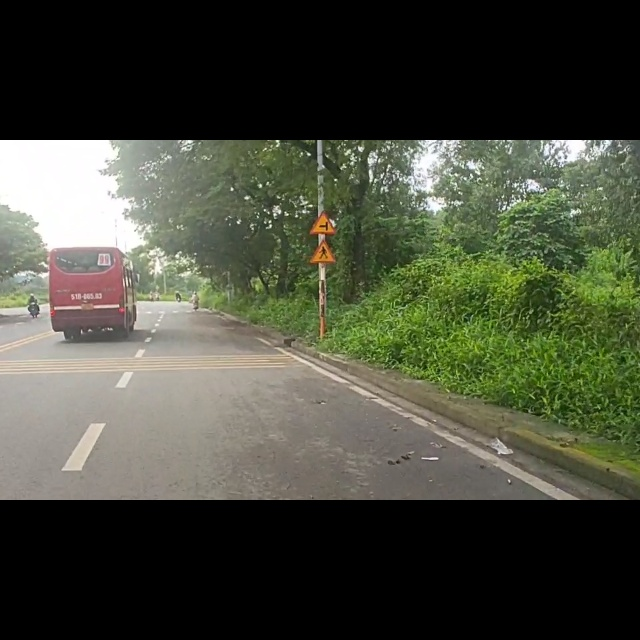bien_nguy_hiem: (309, 175, 338, 226), (309, 123, 340, 169)
